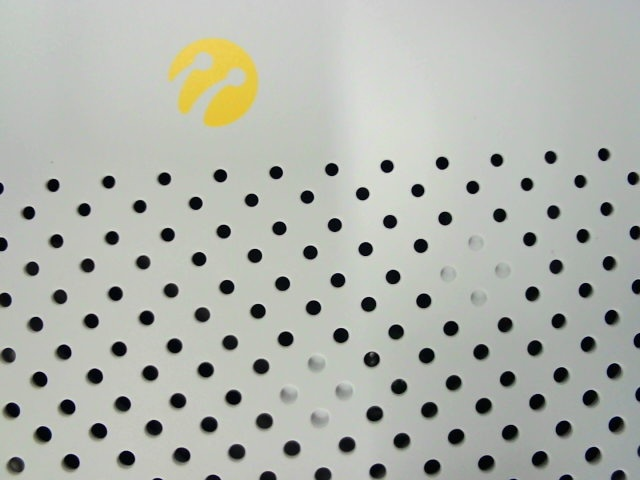AV_H3600Yellow: (158, 33, 269, 137)
